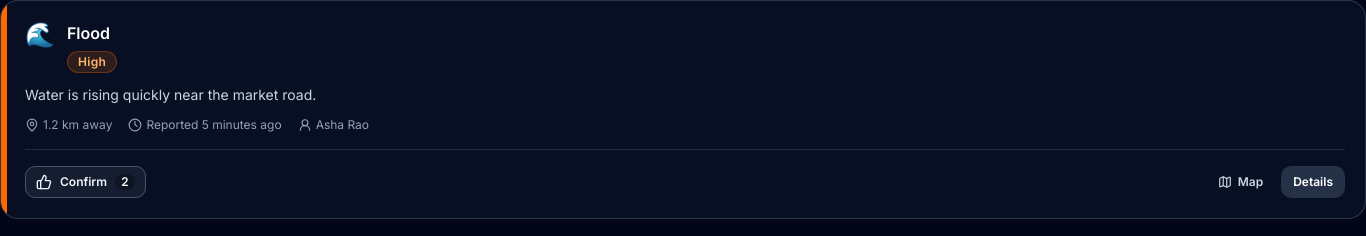
Test: IncidentCard › upvotes optimistically and reports the server copy
What coordinates should you click on to do the following:
click the button with aria-label "Confirm this incident"
I would click on:
 (85, 182)
Its box is [25,166,146,198].
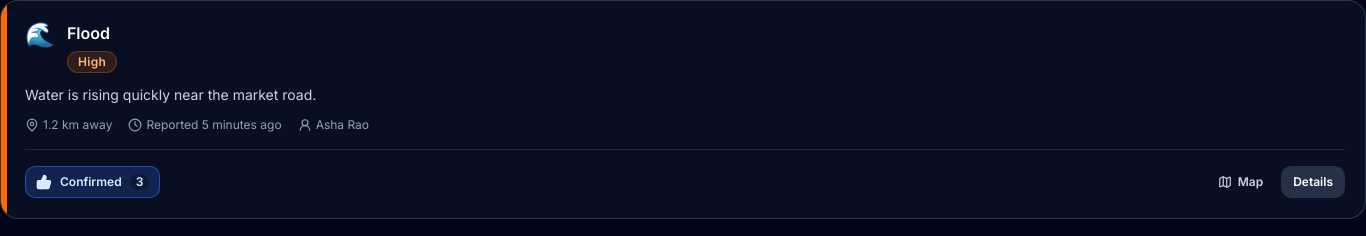
Result: the text with test id "upvote-count" reads "3" at [136,174,143,189]
